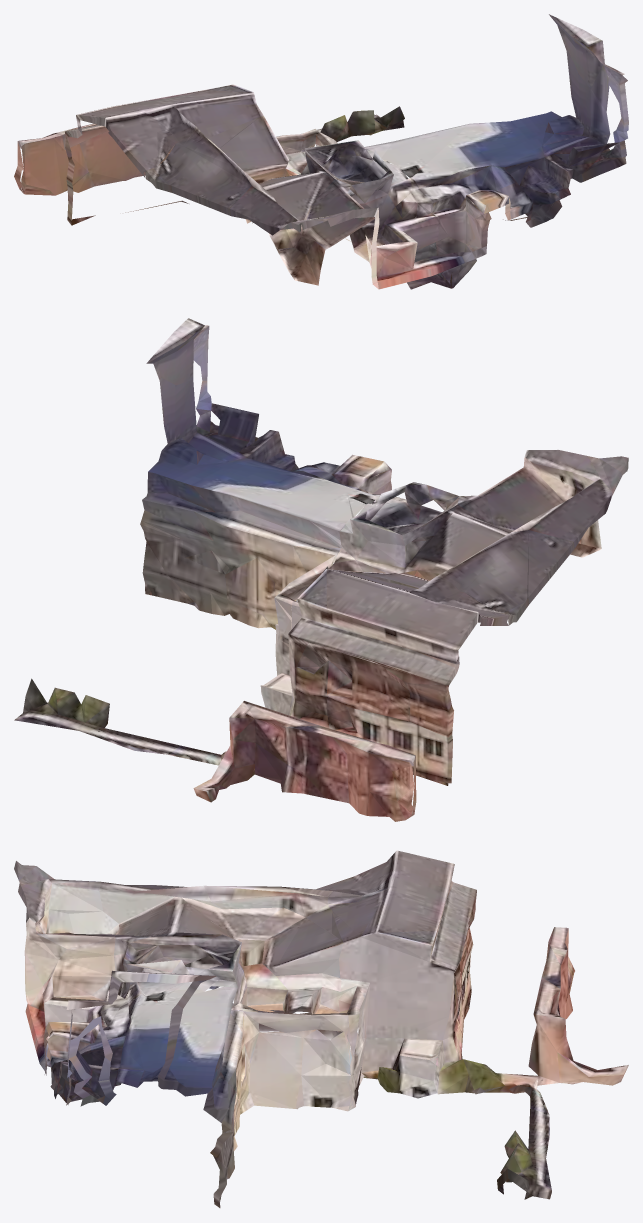
The picture shows the model from 3 angles, top to bottom: view 1: azimuth 30°, elevation 25°; view 2: azimuth 150°, elevation 25°; view 3: azimuth 270°, elevation 25°; orthographic projection. The views are drawn at different scales.
Parts seen in each view (by area): view 1: Mesh_0; view 2: Mesh_0; view 3: Mesh_0.
Boxes of the visible parts, x1,y1,x2,y2 form: Mesh_0: (14, 14, 628, 289); Mesh_0: (14, 318, 628, 821); Mesh_0: (14, 850, 628, 1207).
Bounding box in the file's own units: 33.24 × 16.78 × 38.23.
1 material, 1 textured.
